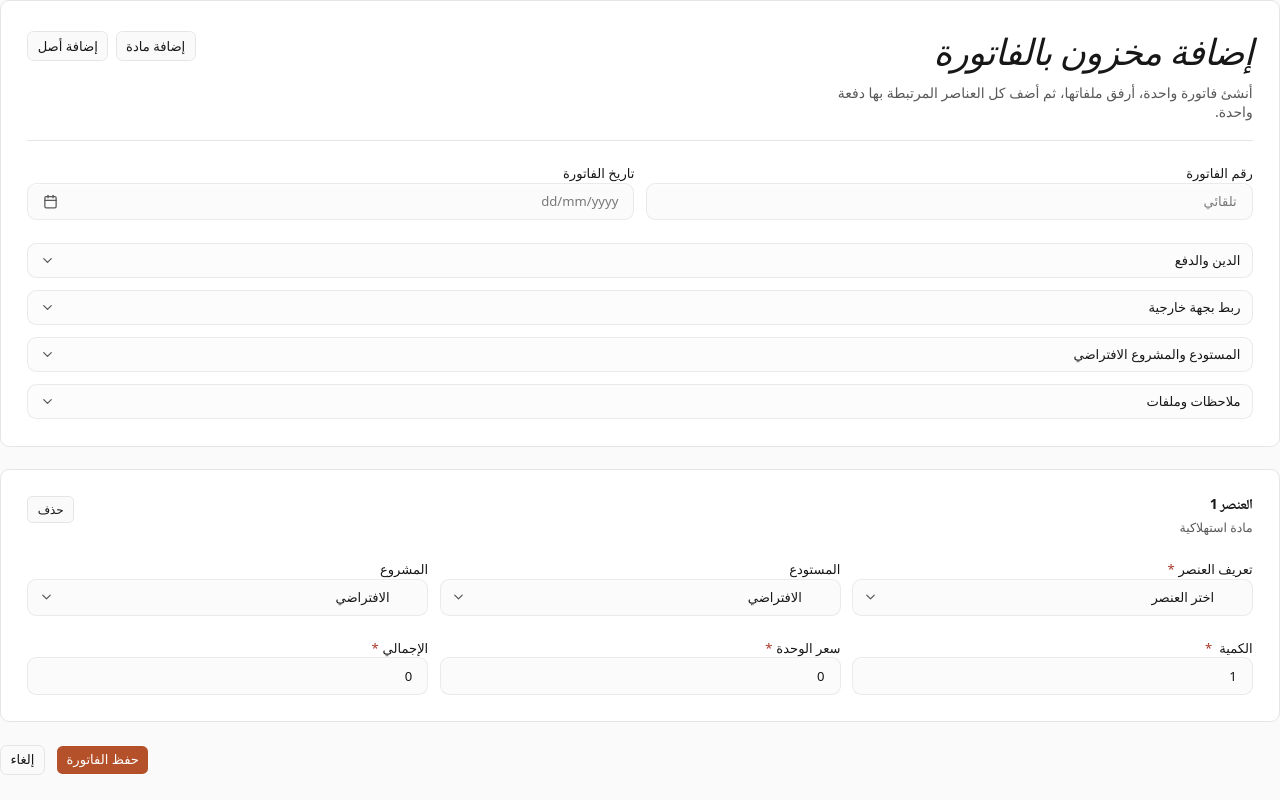
Scenario: InventoryInvoiceCreatePage progressive disclosure (issue #25) › reveals the notes/files fields only after opening their section
Expected: the text "ملفات الفاتورة" is not shown
Expected: the text "ملاحظة" is not shown
What coordinates should you click on to do the following:
click the button "ملاحظات وملفات"
I would click on:
 (1193, 401)
Its box is [28,385,1252,418].
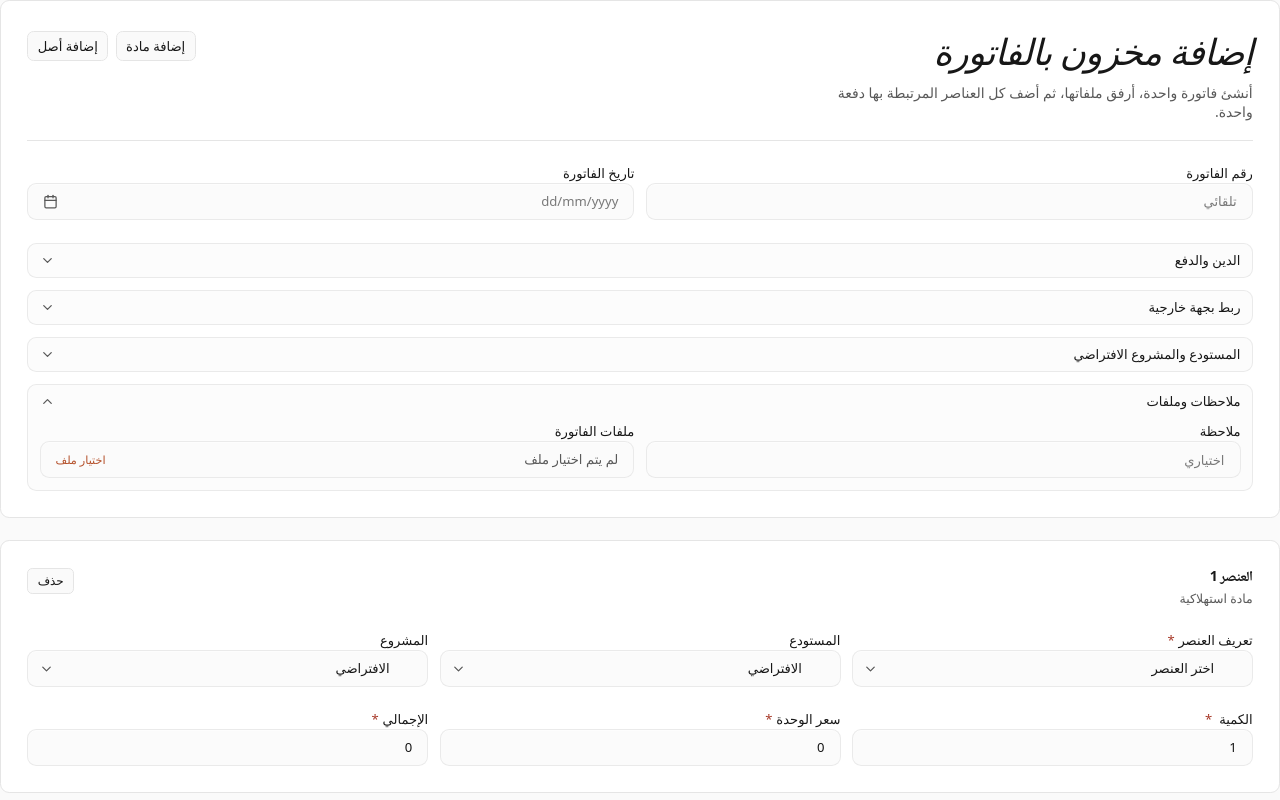
Expected: the button "ملاحظات وملفات" is expanded, [28,385,1252,418]
Expected: the text "ملاحظة" is shown, [1200,422,1240,440]
Expected: the text "ملفات الفاتورة" is shown, [555,422,634,440]
